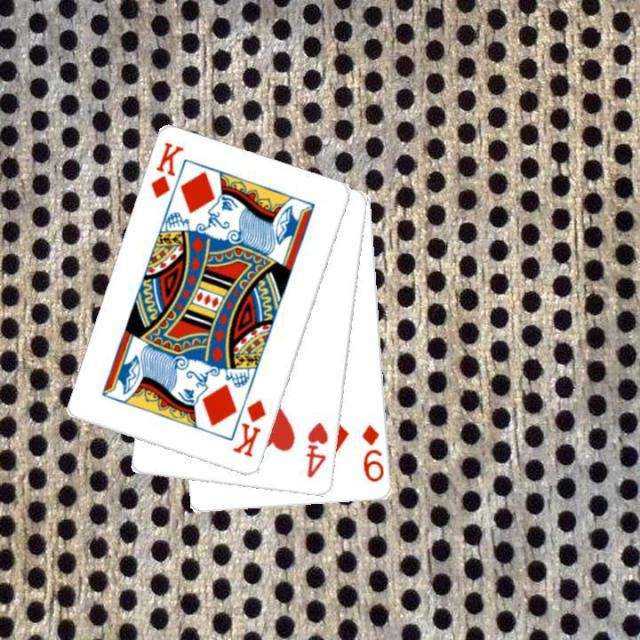4H: (302, 419, 331, 480)
9D: (358, 422, 385, 484)
KD: (228, 396, 268, 460), (147, 138, 186, 201)
